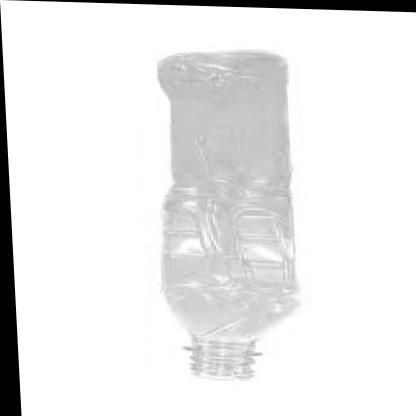trash: (158, 51, 296, 378)
